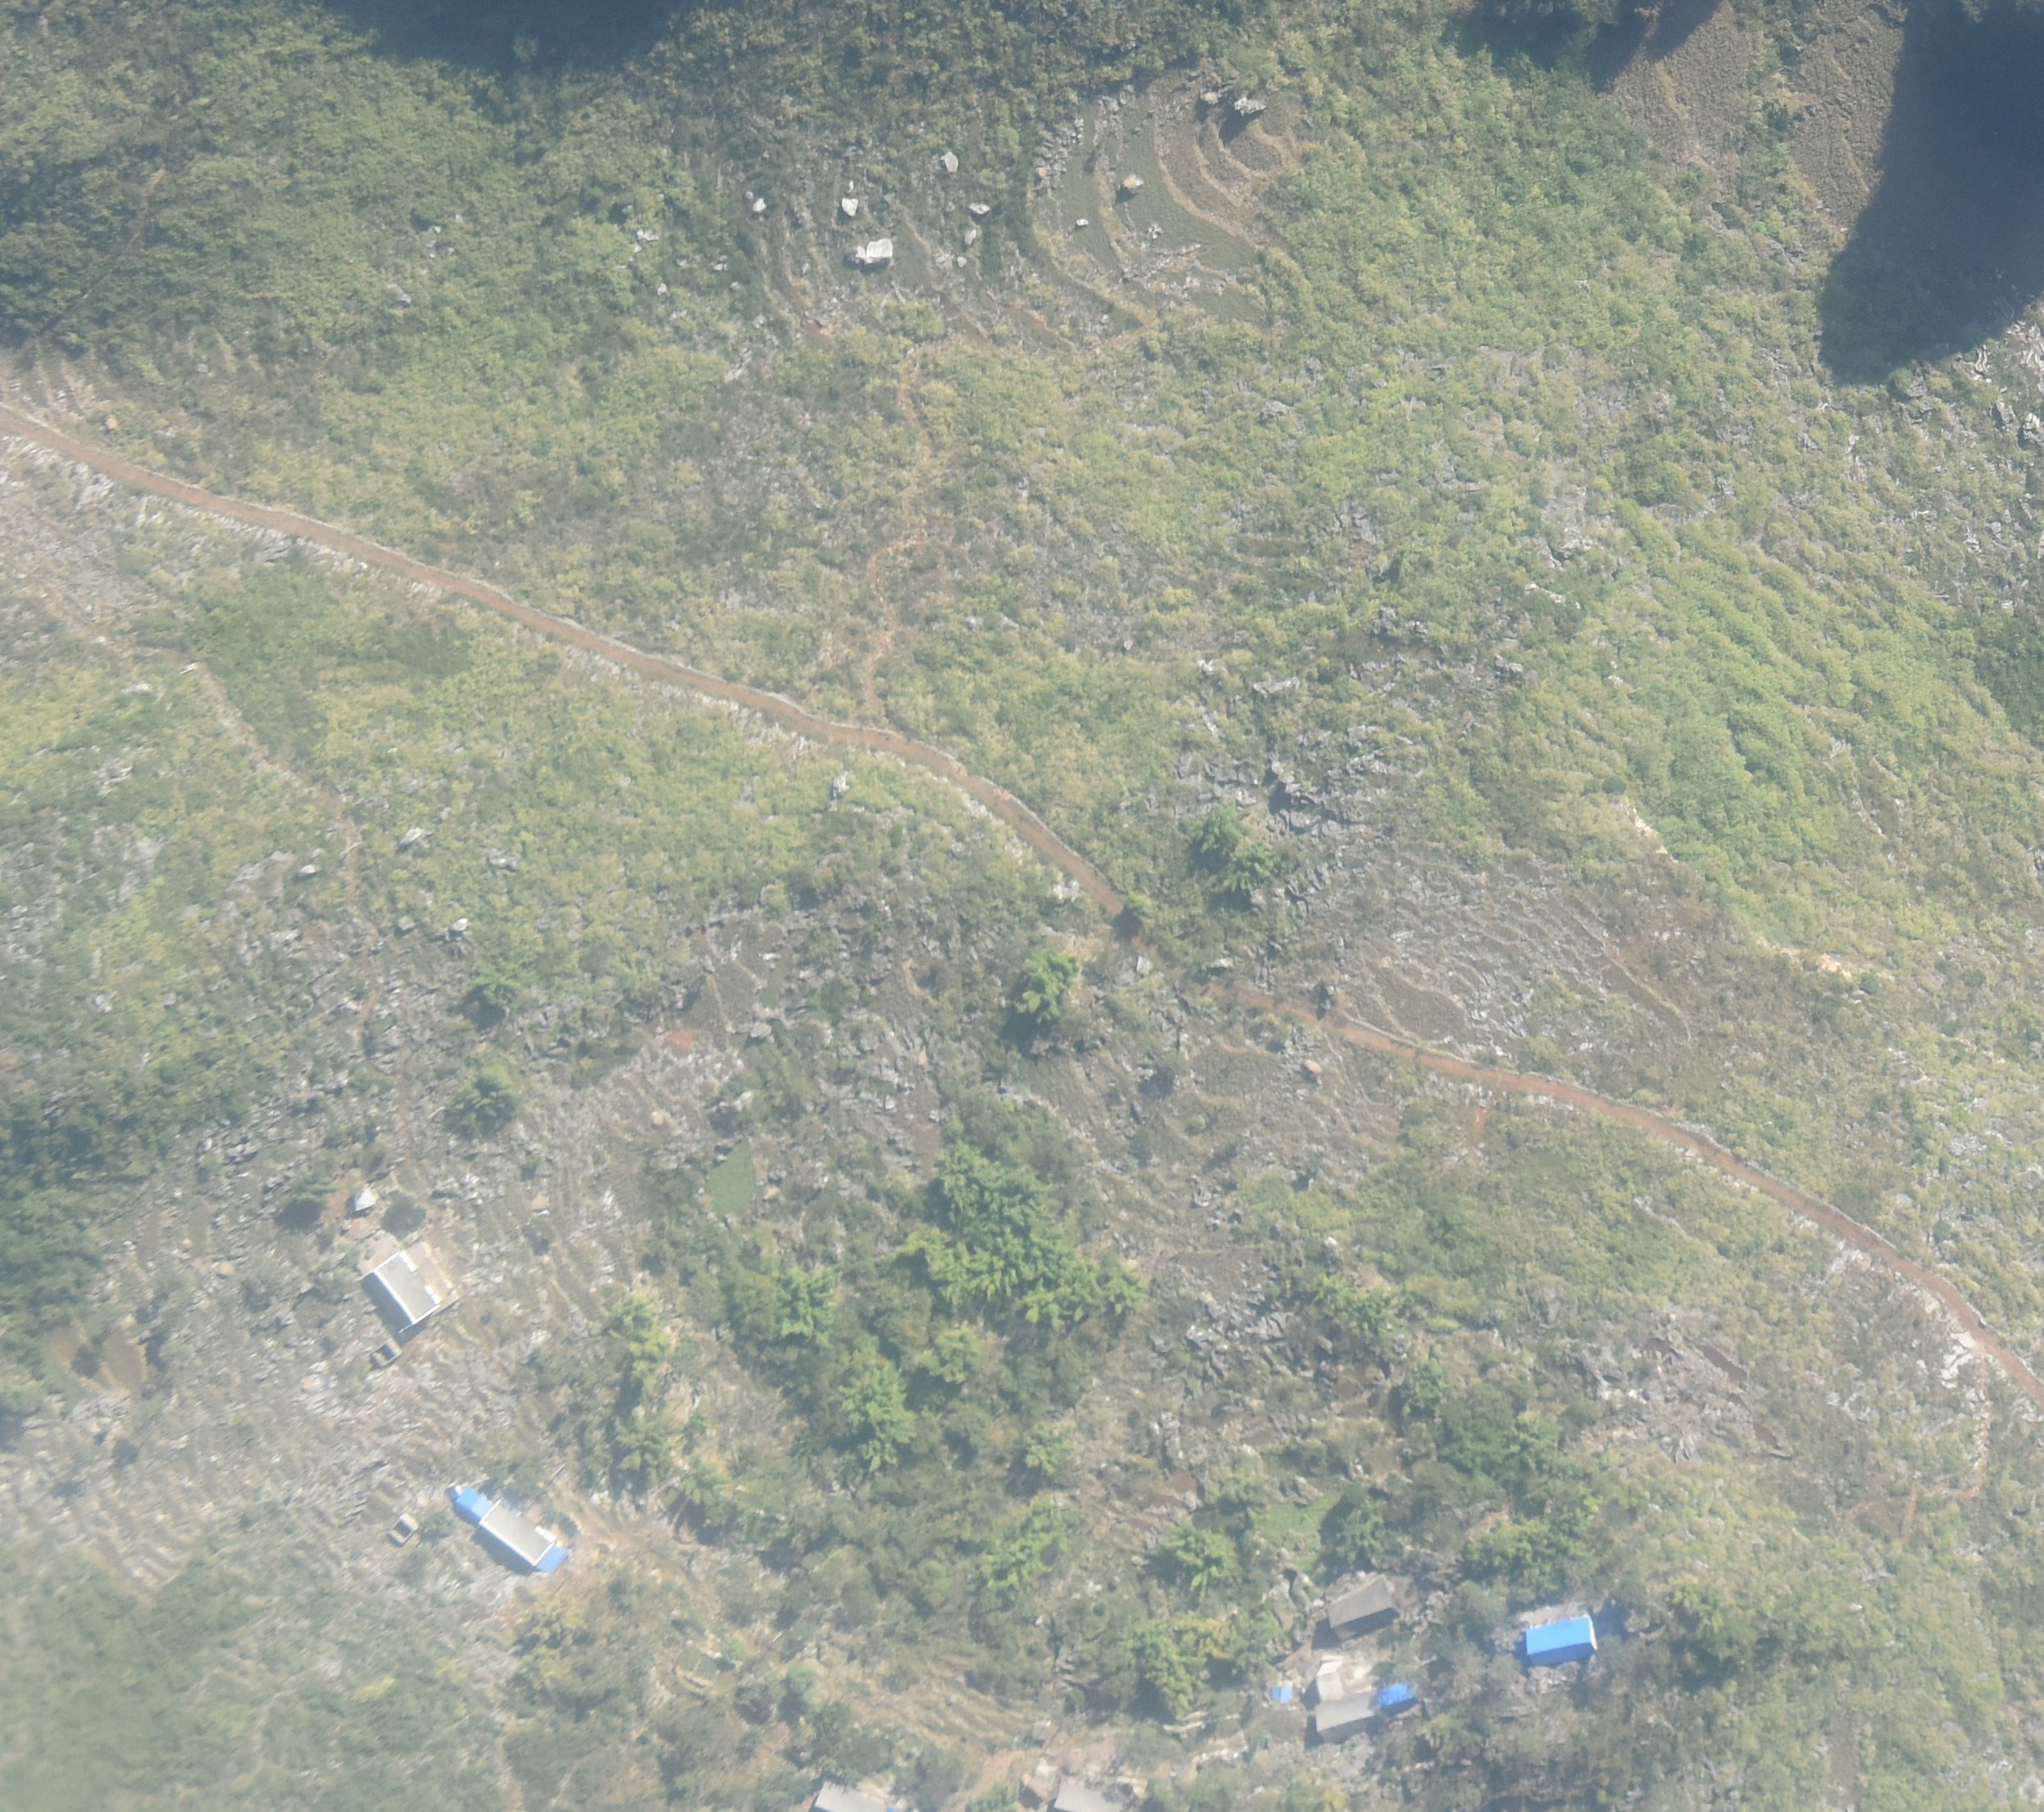building: (362, 1252, 439, 1337), (474, 1501, 549, 1570), (1315, 1664, 1378, 1738), (1327, 1579, 1403, 1640), (807, 1777, 901, 1811), (1049, 1774, 1135, 1811)
prefabricated-house: (1526, 1616, 1599, 1660), (1376, 1681, 1418, 1712), (452, 1489, 494, 1519), (537, 1541, 568, 1573), (1269, 1686, 1293, 1705)
